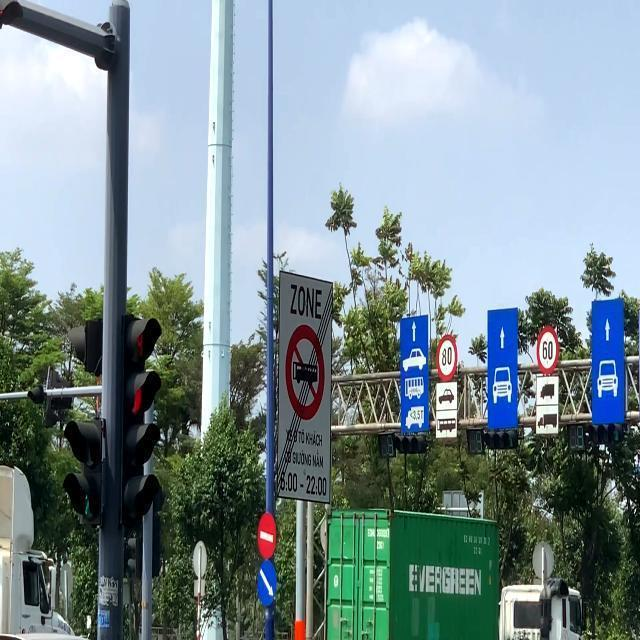102-cam-di-nguoc-chieu: (258, 512, 278, 556)
127-toc-do-toi-da-60: (536, 328, 558, 370)
127-toc-do-toi-da-80: (434, 335, 461, 377)
302a-huong-phai-di-vong-chuong-ngai-vat-1: (253, 564, 281, 608)
